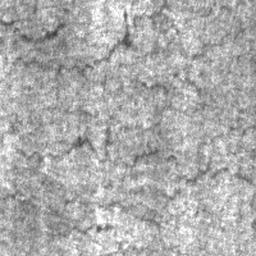Crazing: (3, 0, 256, 236), (0, 8, 70, 46)
